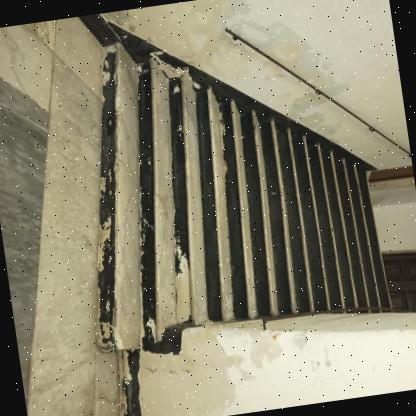stair: (38, 17, 416, 350)
